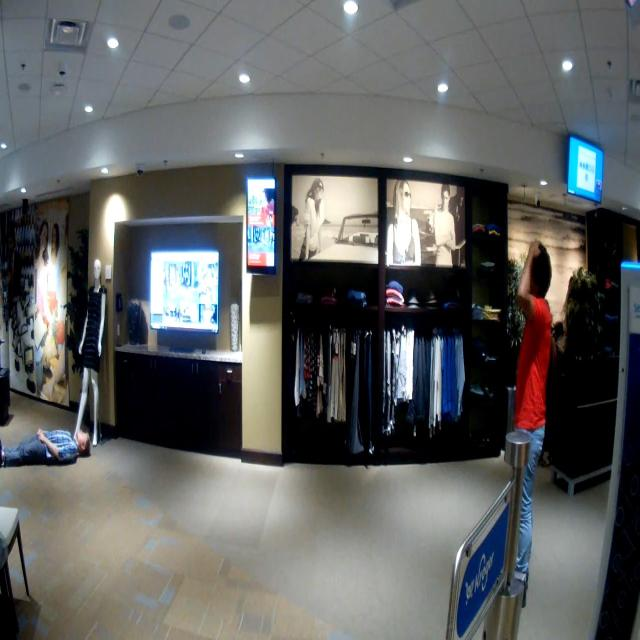fall: (0, 419, 108, 489)
normal: (499, 228, 560, 621)
